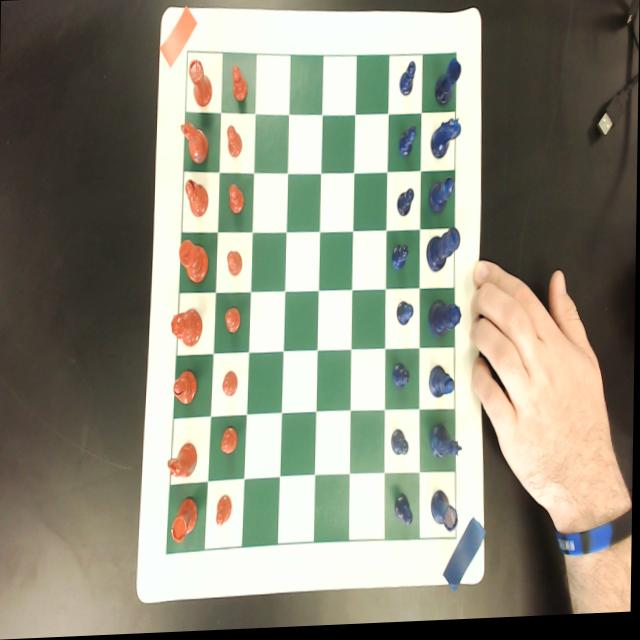B: (428, 366, 457, 402), (429, 180, 455, 217)
K: (426, 230, 460, 276)
N: (429, 120, 462, 163), (430, 424, 463, 465)
P: (394, 495, 415, 530), (398, 61, 416, 101), (398, 126, 417, 161), (391, 429, 410, 461), (396, 190, 415, 221), (392, 363, 411, 393), (396, 301, 414, 330), (390, 247, 409, 273)
Q: (428, 302, 462, 341)
R: (434, 61, 461, 108), (431, 492, 459, 537)
b: (184, 179, 208, 220), (174, 370, 198, 407)
k: (179, 239, 209, 286)
n: (178, 120, 209, 165), (166, 444, 199, 480)
p: (231, 65, 248, 105), (223, 306, 242, 337), (216, 495, 233, 529), (228, 183, 245, 217), (226, 124, 242, 159), (221, 428, 238, 457), (222, 371, 239, 399), (227, 249, 243, 278)
q: (170, 310, 202, 349)
r: (171, 497, 200, 545), (188, 59, 212, 107)
